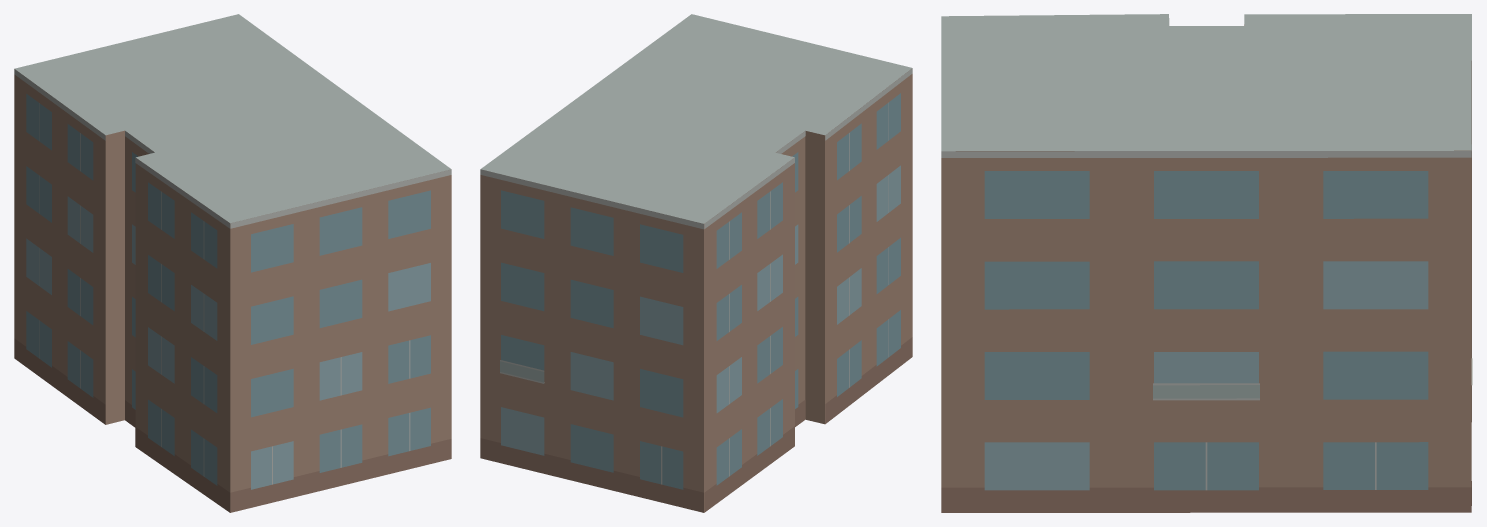
Rendered from survey-upis-32908896.glb.
The picture shows the model from 3 angles, left to right: view 1: azimuth 30°, elevation 25°; view 2: azimuth 150°, elevation 25°; view 3: azimuth 270°, elevation 25°; orthographic projection. The views are drawn at different scales.
Parts seen in each view (by area): view 1: survey-upis-32908896.tmp; view 2: survey-upis-32908896.tmp; view 3: survey-upis-32908896.tmp.
Part boxes in pixels (bbox=[...]): survey-upis-32908896.tmp: bbox=[14, 14, 451, 512]; survey-upis-32908896.tmp: bbox=[480, 14, 912, 512]; survey-upis-32908896.tmp: bbox=[941, 14, 1472, 512].
Size of the model in its own units: 10.36 by 12.7 by 16.93.
